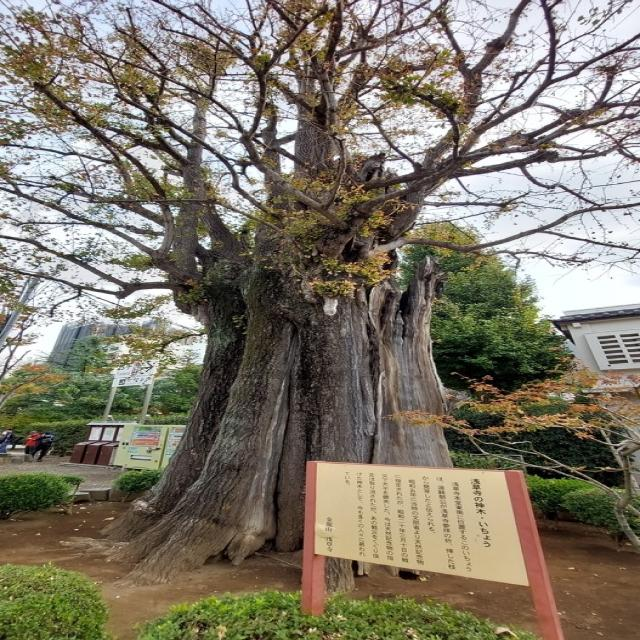ginkgo: (0, 0, 640, 578)
